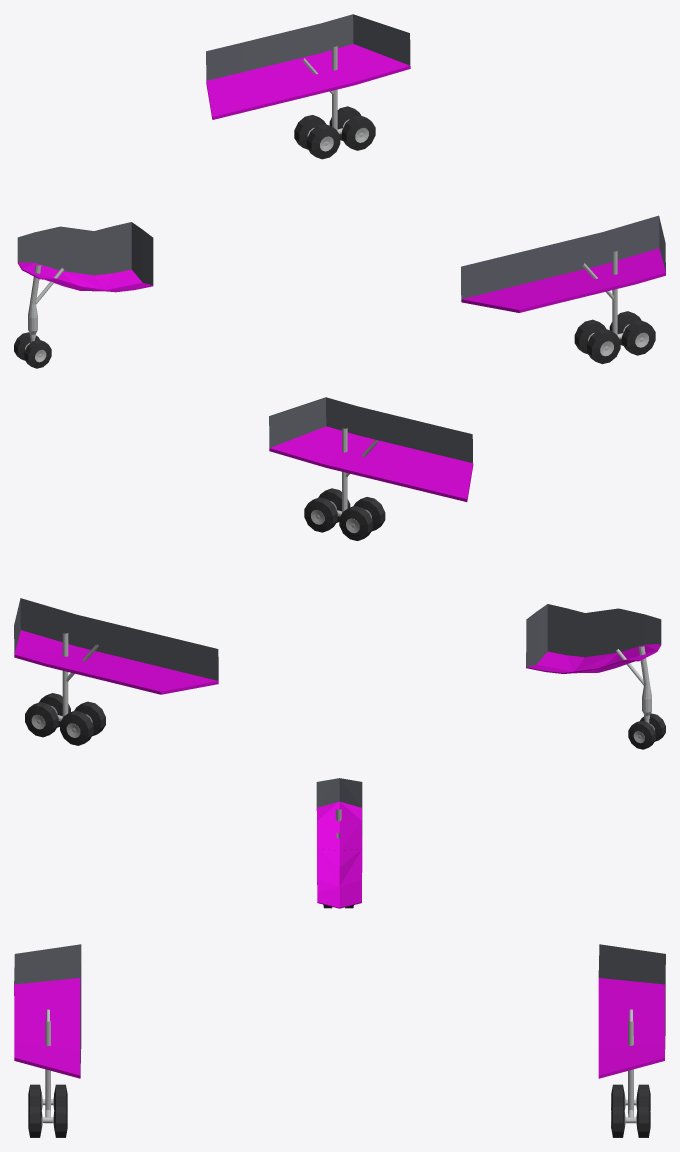
Rendered from b2.gear.glb.
3 views of the same model, one above another, from view 1: azimuth 30°, elevation 25°; view 2: azimuth 150°, elevation 25°; view 3: azimuth 270°, elevation 25° (orthographic). The views are drawn at different scales.
Visible parts, largest first — view 1: gear; view 2: gear; view 3: gear.
Boxes of the visible parts, x1,y1,x2,y2 form: gear: [14, 14, 665, 368]; gear: [14, 397, 665, 749]; gear: [14, 778, 665, 1137].
Size of the model in its own units: 12.41 by 2.75 by 13.09.
